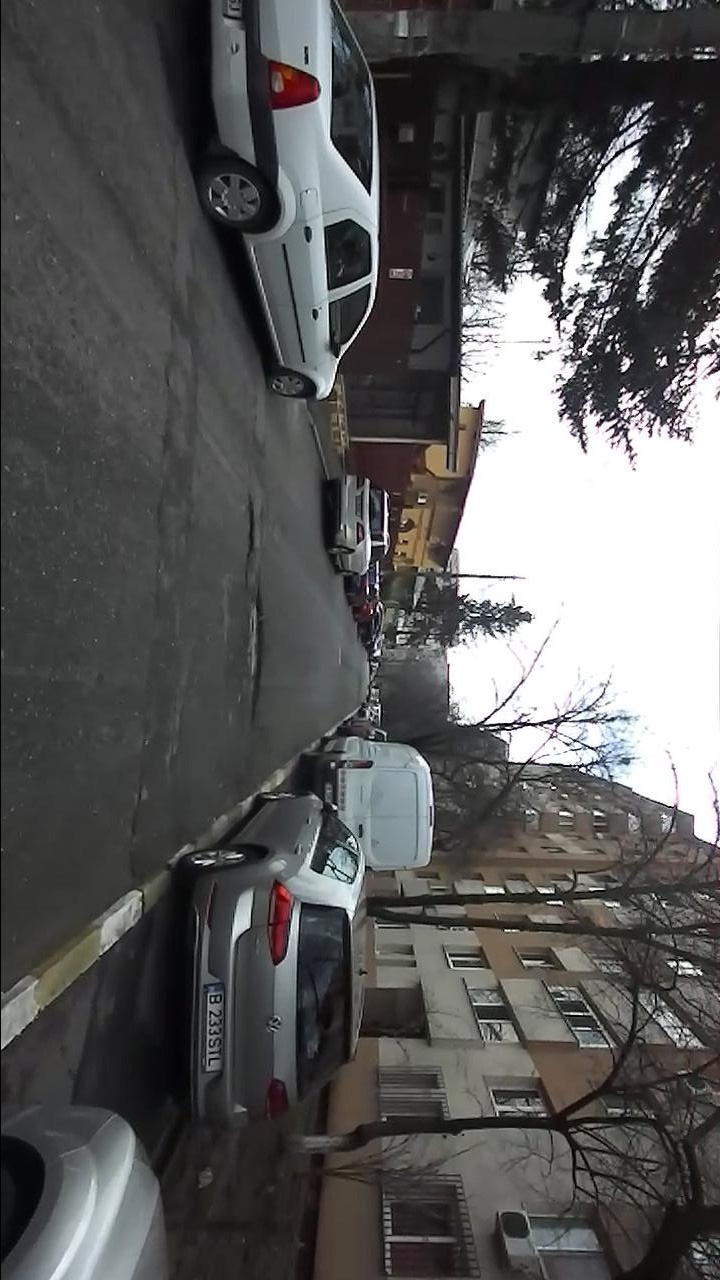pothole: (245, 585, 269, 726), (122, 773, 153, 874), (244, 491, 259, 576)
